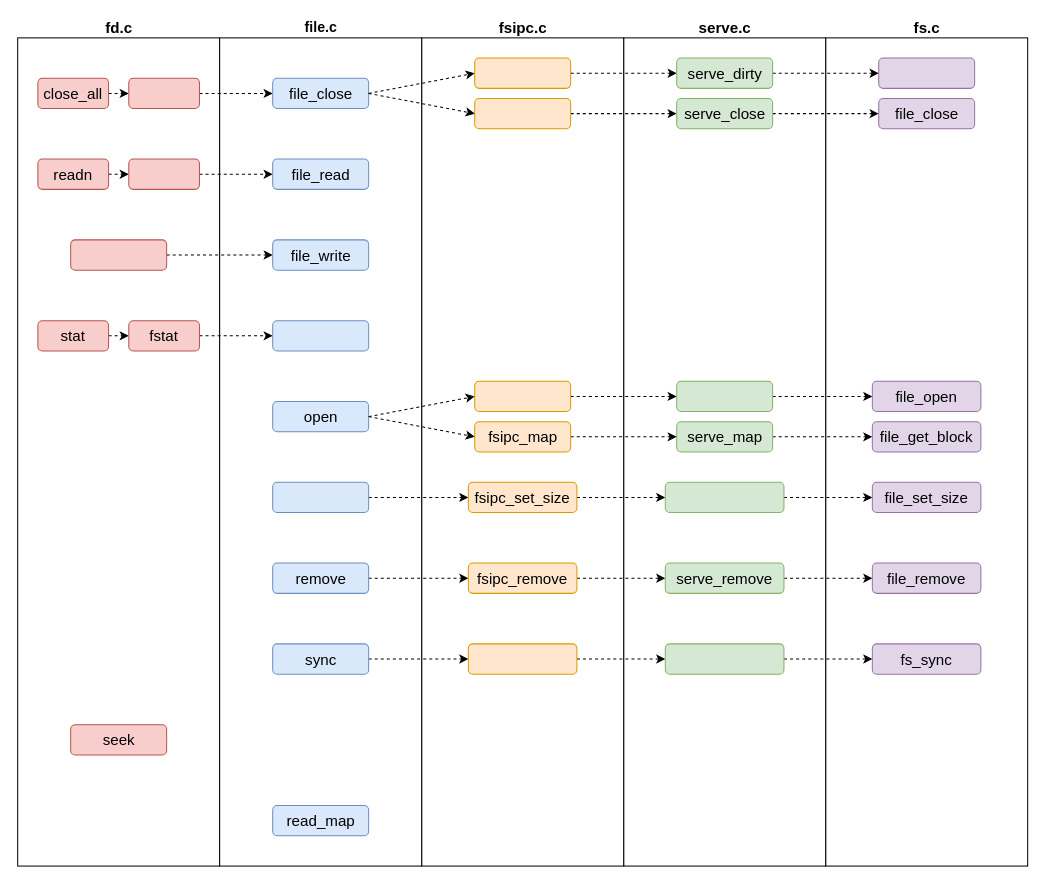
The diagram is 1045 pixels wide and 884 high, and some of its shapes have lost their labels. The box of each missing label's shape, as (x1, y1, x2, y2) in pixels:
close: (128, 77, 199, 109)
file_dirty: (878, 57, 975, 88)
file_stat: (272, 320, 369, 351)
fsipc_close: (474, 97, 571, 129)
fsipc_dirty: (474, 57, 571, 88)
fsipc_open: (474, 380, 571, 412)
fsipc_sync: (467, 643, 577, 674)
ftruncate: (272, 481, 369, 513)
read: (128, 158, 199, 189)
serve_get_size: (664, 481, 784, 513)
serve_open: (676, 380, 773, 412)
serve_sync: (664, 643, 784, 674)
write: (70, 239, 167, 270)
